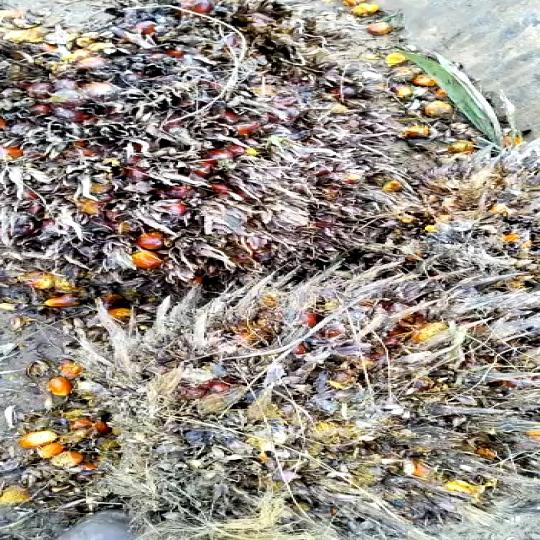terlalu masak: (81, 284, 514, 528), (0, 32, 364, 297)
